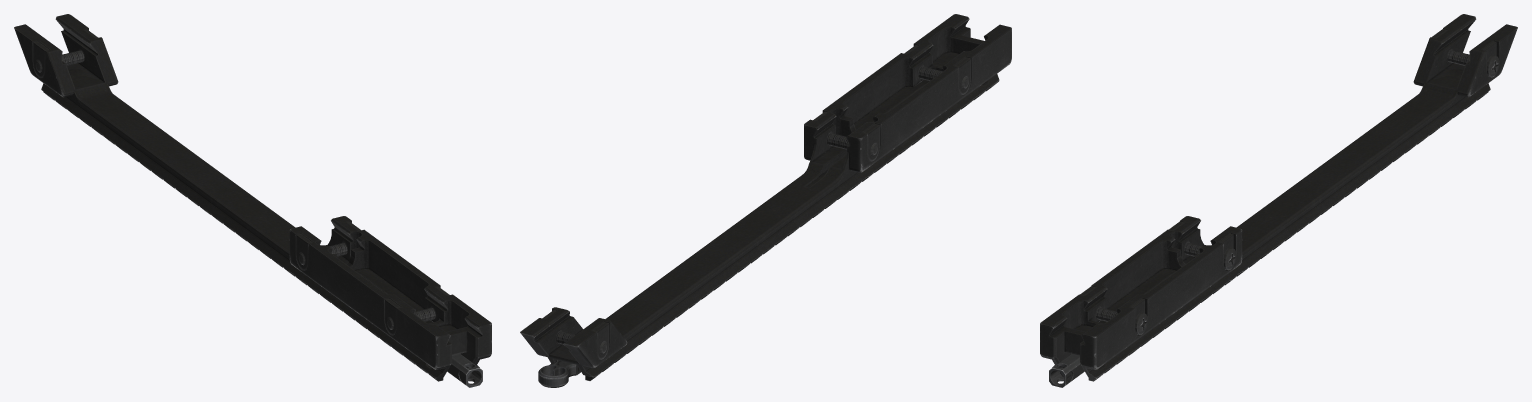
3 renders of one model, left to right at view 1: azimuth 30°, elevation 25°; view 2: azimuth 150°, elevation 25°; view 3: azimuth 330°, elevation 25°, orthographic. The views are drawn at different scales.
Visible parts, largest first — view 1: TW_622b3d5cf9cfc87d675d2de9_folded_PZ_Import; view 2: TW_622b3d5cf9cfc87d675d2de9_folded_PZ_Import; view 3: TW_622b3d5cf9cfc87d675d2de9_folded_PZ_Import.
Boxes of the visible parts, box(x1,y1,x2,y2) form: TW_622b3d5cf9cfc87d675d2de9_folded_PZ_Import: box(14, 14, 491, 387); TW_622b3d5cf9cfc87d675d2de9_folded_PZ_Import: box(520, 14, 1011, 387); TW_622b3d5cf9cfc87d675d2de9_folded_PZ_Import: box(1040, 14, 1517, 387).
Size of the model in its own units: 0.0165 by 0.2095 by 0.0143.
1 material, 1 textured.
